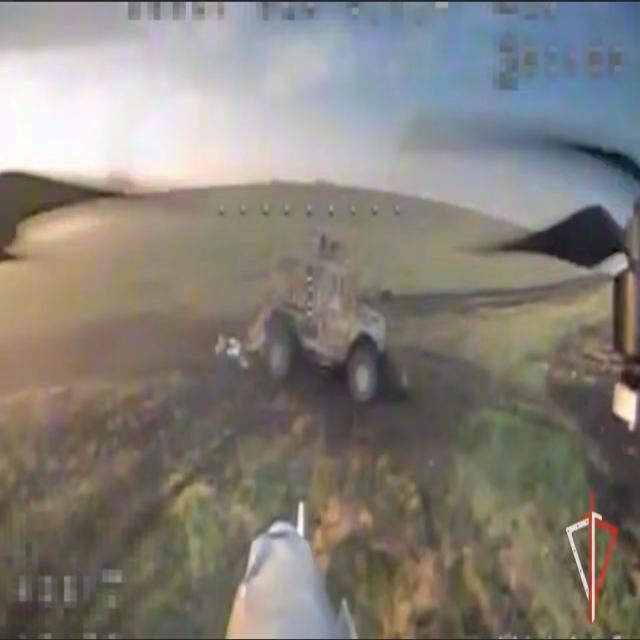vehicle: (258, 234, 396, 420)
